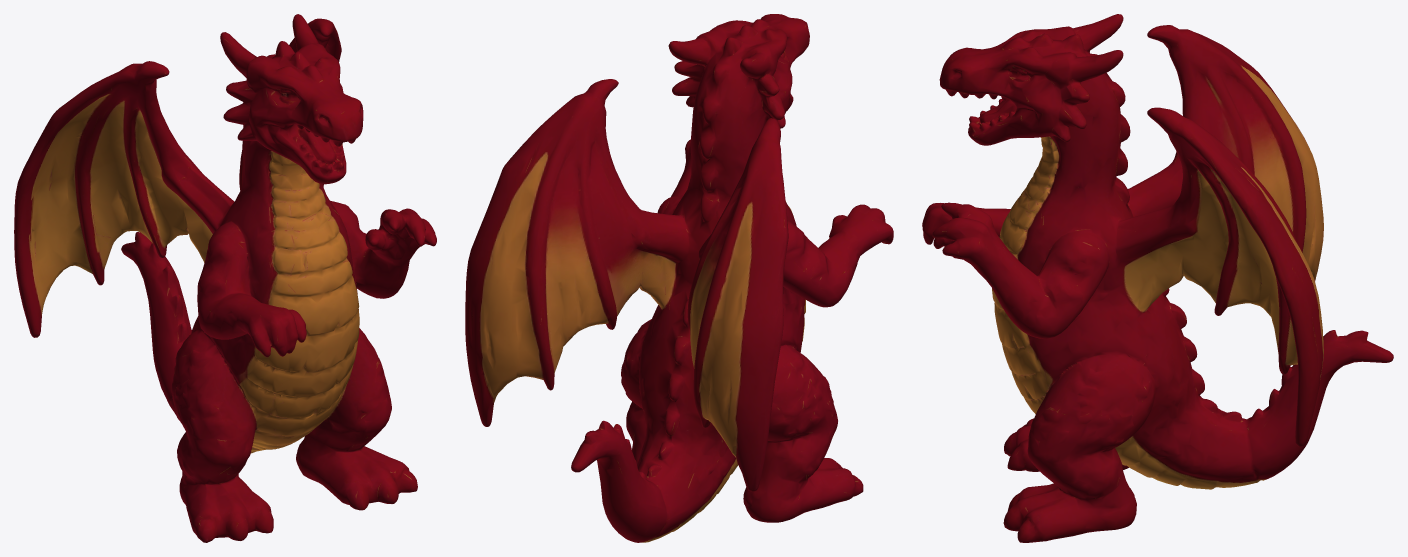
The picture shows the model from 3 angles, left to right: view 1: azimuth 30°, elevation 25°; view 2: azimuth 150°, elevation 25°; view 3: azimuth 270°, elevation 25°; orthographic projection.
Parts seen in each view (by area): view 1: Mesh_0; view 2: Mesh_0; view 3: Mesh_0.
Part boxes in pixels (box(x1,y1,x2,y2)): Mesh_0: box(14, 14, 436, 542); Mesh_0: box(465, 14, 893, 542); Mesh_0: box(922, 14, 1393, 542).
Size of the model in its own units: 1.38 by 1.9 by 1.77.
1 material, 1 textured.
